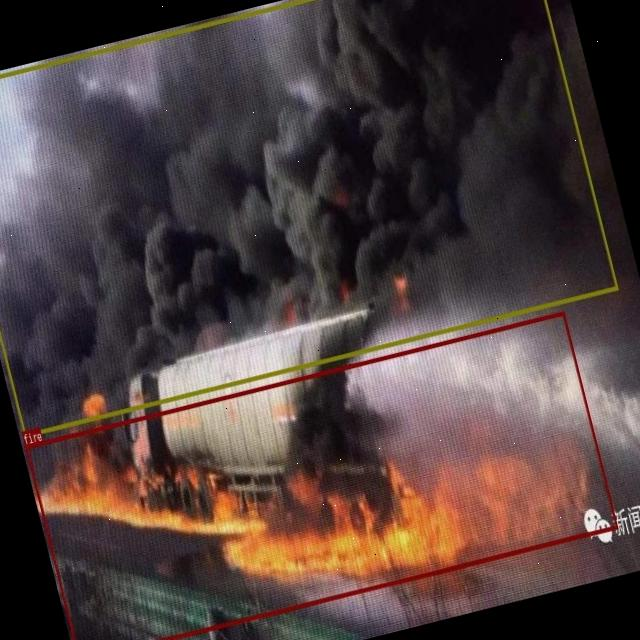fire: (24, 310, 617, 640)
smoke: (0, 0, 618, 436)
